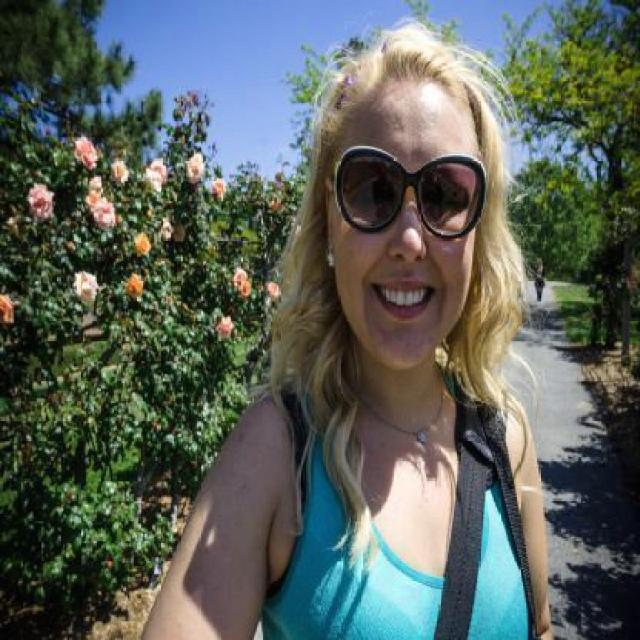face_nomask: (339, 153, 472, 332)
glasses: (333, 136, 492, 244)
head_nohelmet: (320, 27, 486, 113)
person: (160, 27, 574, 640)
